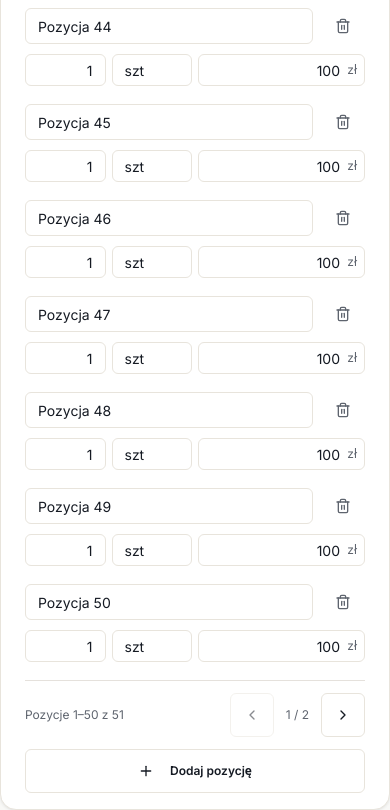
Test: WorkspaceLineItems — pagination › navigates to next page and updates range label
(page scrolled)
Click the button named "następna strona": [343, 715] box [321,693,365,737]
(page scrolled)
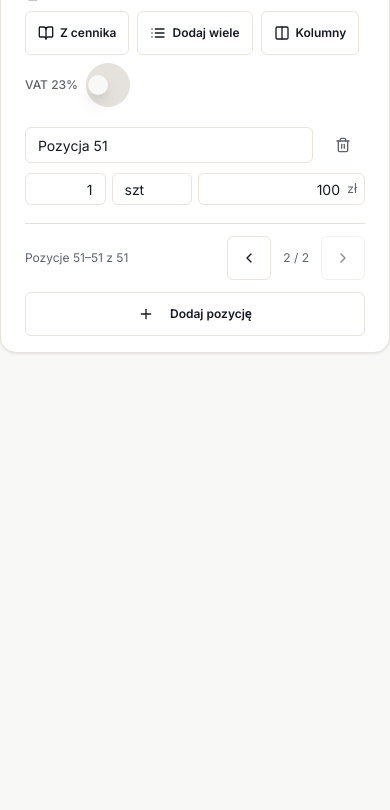
Expected: the text "Pozycje 51–51 z 51" is shown, [25,250,128,266]
